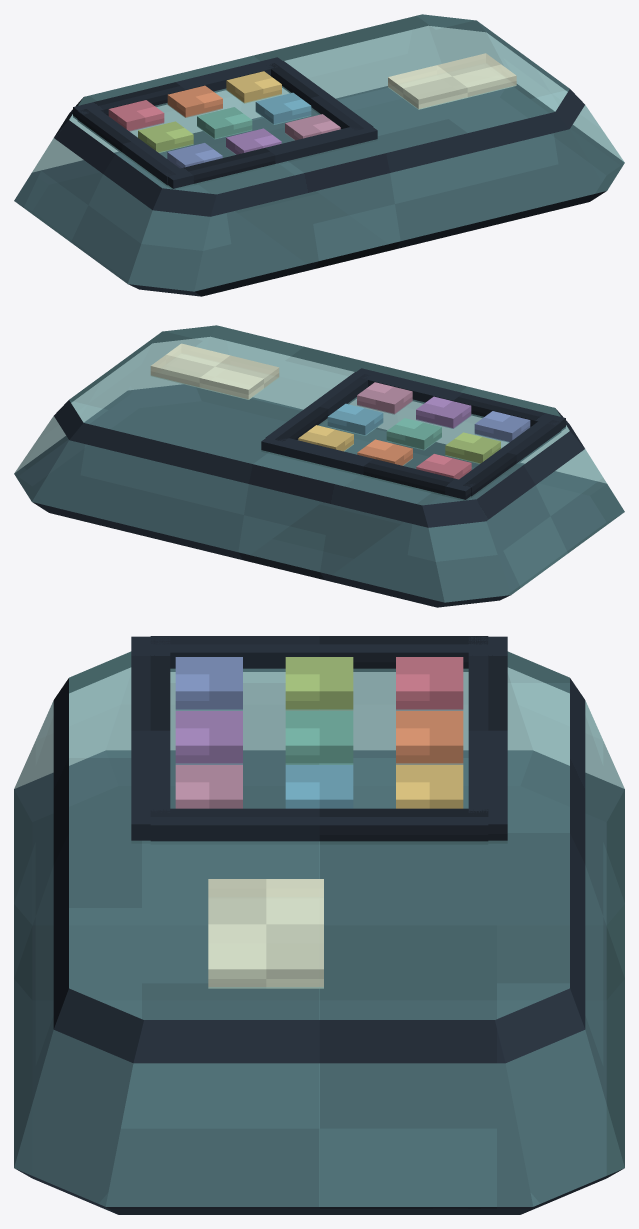
File: yuanying_jiuse_ingot.obj
The picture shows the model from 3 angles, top to bottom: view 1: azimuth 30°, elevation 25°; view 2: azimuth 150°, elevation 25°; view 3: azimuth 270°, elevation 25°; orthographic projection. The views are drawn at different scales.
Parts seen in each view (by area): view 1: ingot_body, glass_ingot_stamp, glass_ingot_frame_1, glass_ingot_frame_0, glass_ingot_frame_2, glass_ingot_frame_3, glass_ingot_color_5, glass_ingot_color_1, glass_ingot_color_2, glass_ingot_color_4, glass_ingot_color_0, glass_ingot_color_3 (+3 smaller); view 2: ingot_body, glass_ingot_stamp, glass_ingot_frame_0, glass_ingot_frame_1, glass_ingot_frame_2, glass_ingot_frame_3, glass_ingot_color_5, glass_ingot_color_7, glass_ingot_color_8, glass_ingot_color_4, glass_ingot_color_6, glass_ingot_color_3 (+3 smaller); view 3: ingot_body, glass_ingot_stamp, glass_ingot_frame_3, glass_ingot_frame_2, glass_ingot_frame_0, glass_ingot_frame_1, glass_ingot_color_4, glass_ingot_color_3, glass_ingot_color_1, glass_ingot_color_7, glass_ingot_color_0, glass_ingot_color_6 (+3 smaller).
Part boxes in pixels (x1,y1,x2,y2): ingot_body: (14,14,624,296); glass_ingot_stamp: (388,53,516,109); glass_ingot_frame_1: (163,124,377,189); glass_ingot_frame_0: (73,57,286,120); glass_ingot_frame_2: (77,107,183,186); glass_ingot_frame_3: (269,61,373,130); glass_ingot_color_5: (255,92,311,124); glass_ingot_color_1: (167,85,222,117); glass_ingot_color_2: (226,71,281,103); glass_ingot_color_4: (197,107,252,139); glass_ingot_color_0: (108,100,164,131); glass_ingot_color_3: (138,121,193,152); ingot_body: (14,325,624,607); glass_ingot_stamp: (150,343,279,399); glass_ingot_frame_0: (261,434,474,500); glass_ingot_frame_1: (352,368,565,431); glass_ingot_frame_2: (456,418,561,497); glass_ingot_frame_3: (265,372,370,441); glass_ingot_color_5: (327,403,383,435); glass_ingot_color_7: (416,396,471,428); glass_ingot_color_8: (357,382,412,414); glass_ingot_color_4: (386,418,441,450); glass_ingot_color_6: (474,411,530,442); glass_ingot_color_3: (445,432,500,463); ingot_body: (14,651,624,1214); glass_ingot_stamp: (208,879,323,988); glass_ingot_frame_3: (150,808,488,844); glass_ingot_frame_2: (150,636,488,671); glass_ingot_frame_0: (468,636,507,843); glass_ingot_frame_1: (131,636,170,843); glass_ingot_color_4: (285,711,353,764); glass_ingot_color_3: (285,657,353,710); glass_ingot_color_1: (396,711,463,764); glass_ingot_color_7: (175,711,242,764); glass_ingot_color_0: (396,657,463,710); glass_ingot_color_6: (175,657,242,710).
Bounding box in the file's own units: 0.38 × 0.0719 × 0.215.
